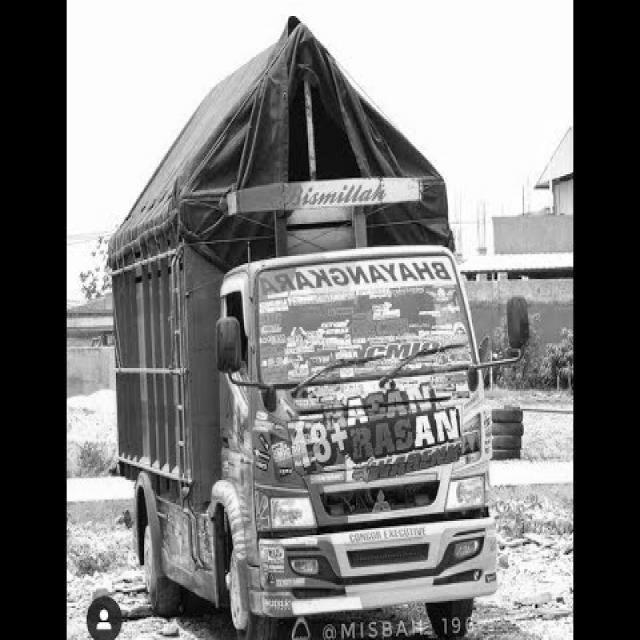truck: (189, 234, 528, 640)
